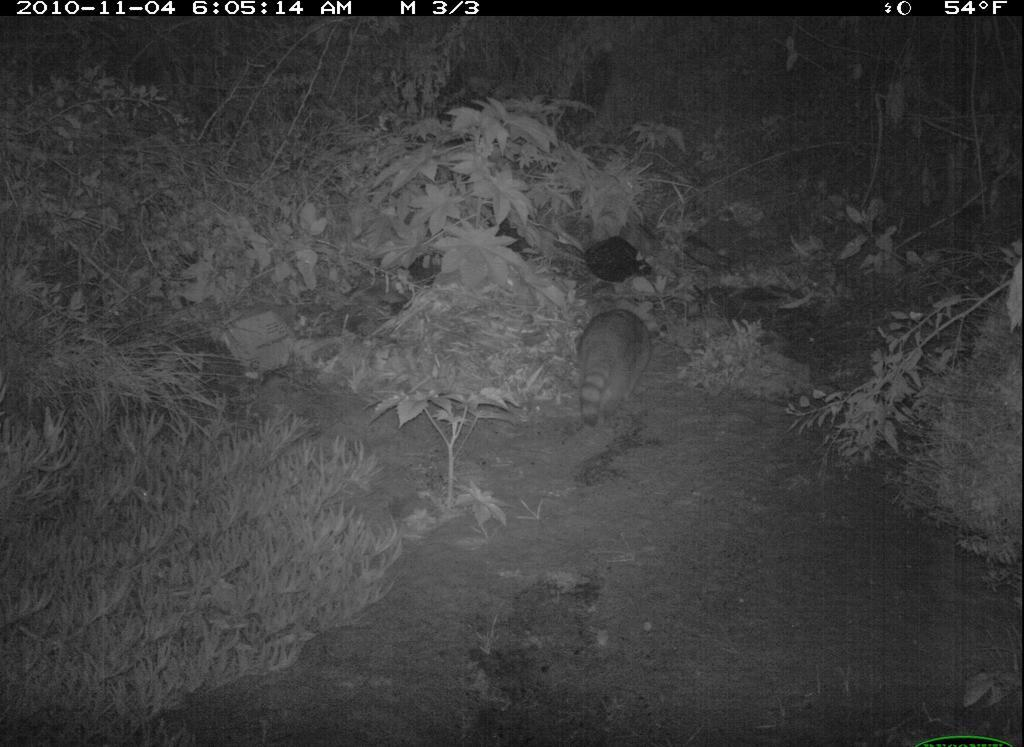raccoon: (555, 294, 674, 436)
